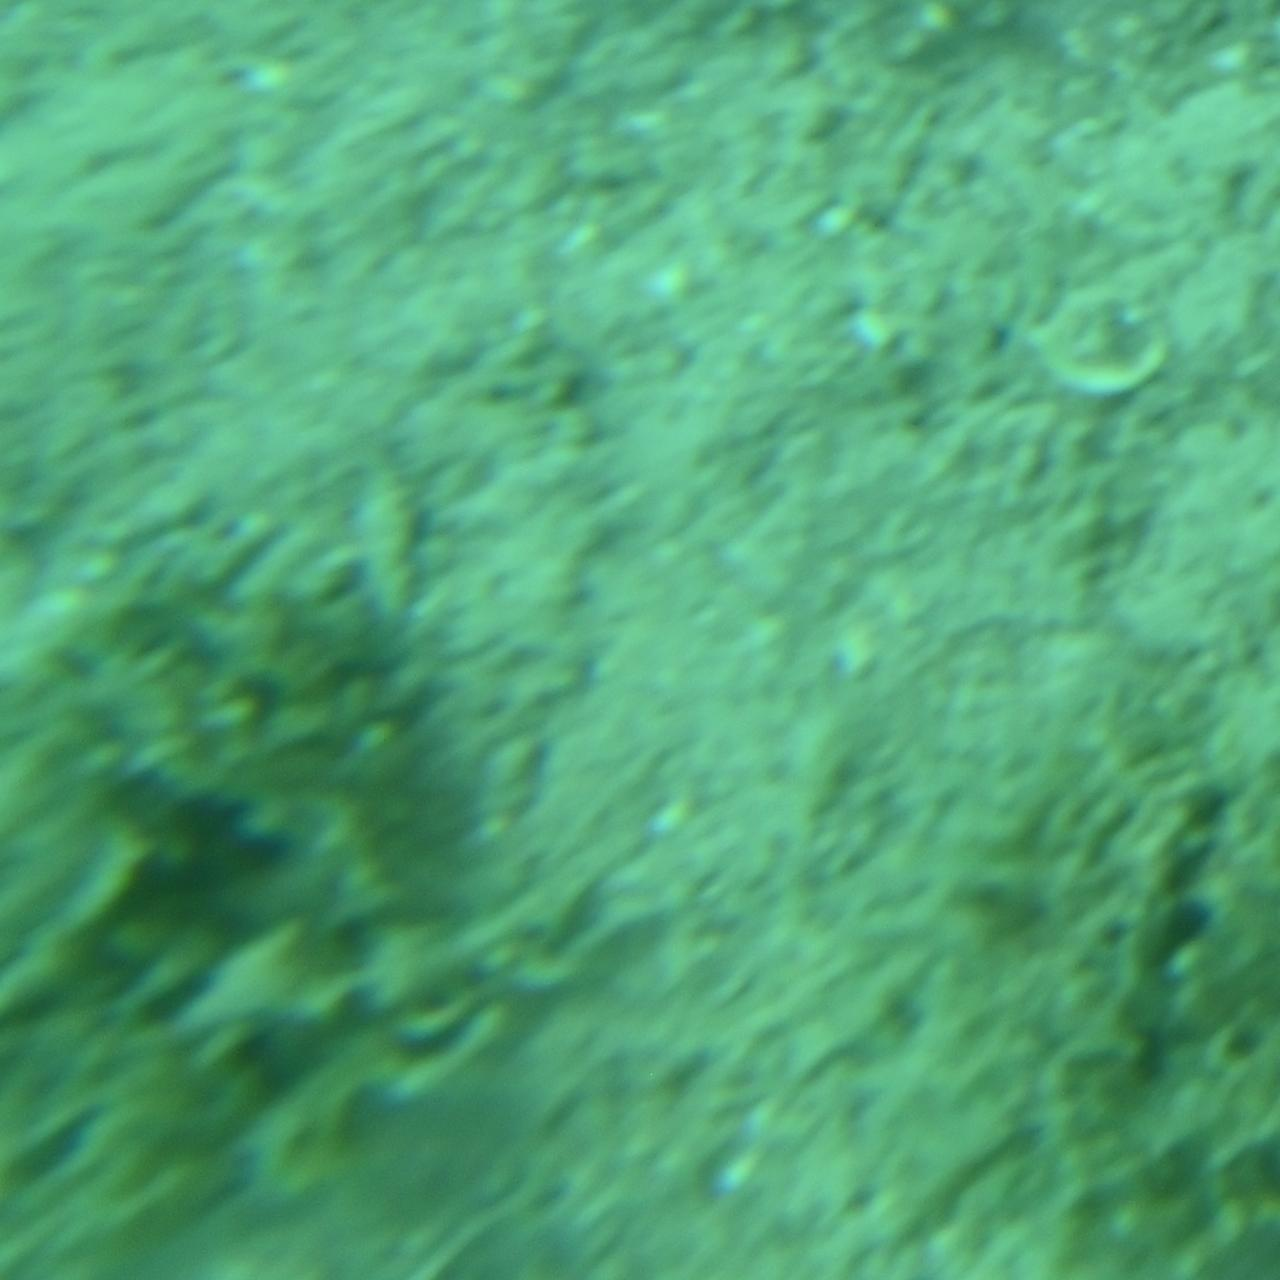Phaeophyceae -cfr Cystoseira-: (2, 511, 545, 1268)
